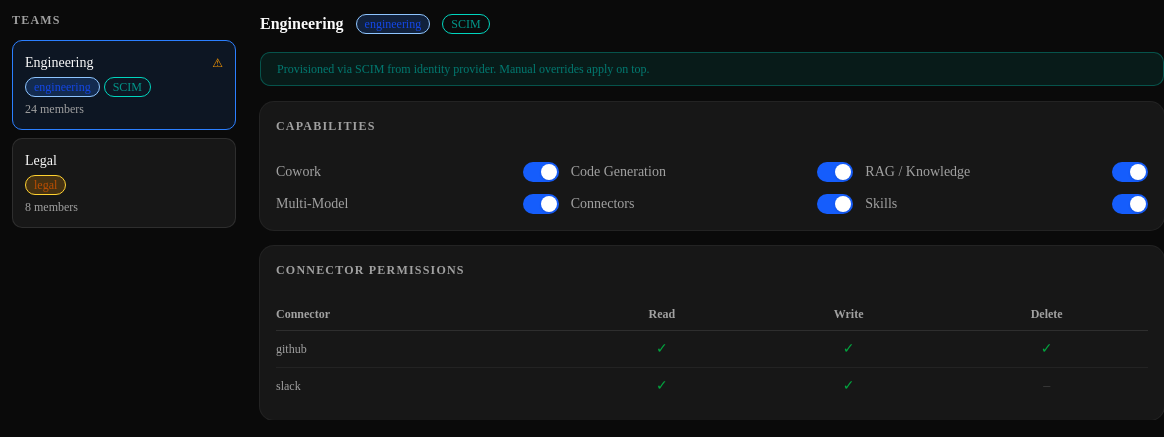
Test case: Enterprise components › RBACPanel renders team details and capability toggle toast
Expected: the heading "Engineering" is shown, [260, 12, 344, 36]
Expected: the icon "SCIM" below "Teams" is shown, [113, 80, 142, 94]
Click the text "Legal".
click(41, 161)  # box [25, 151, 57, 171]
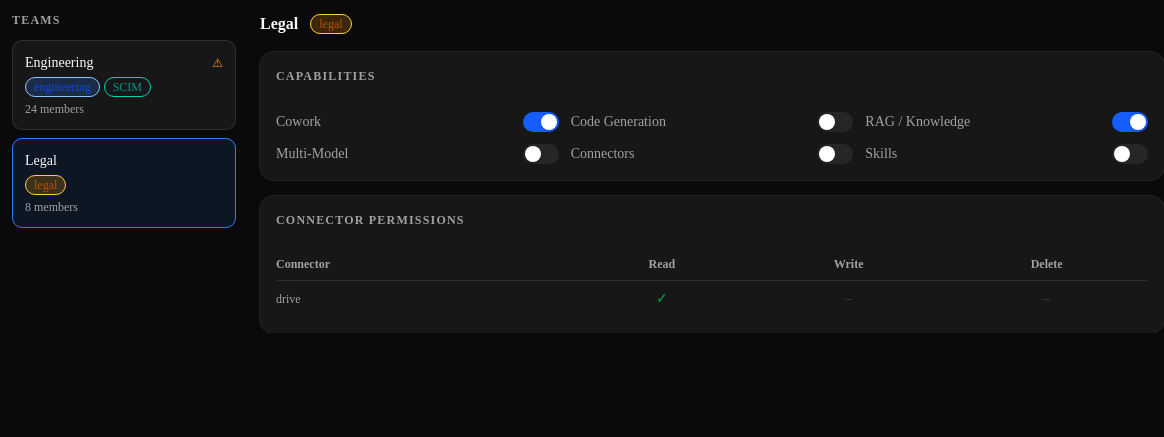
Click the switch named "Toggle Cowork for Legal".
click(541, 122)  # box [523, 112, 559, 132]
Wait 2600 ms
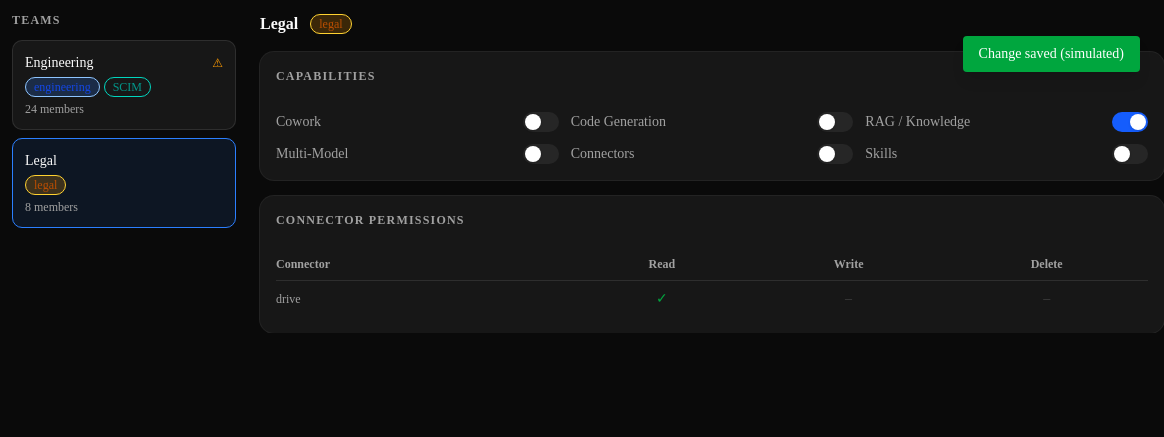
Result: the text "Change saved (simulated)" is shown at [963, 36, 1140, 72]
